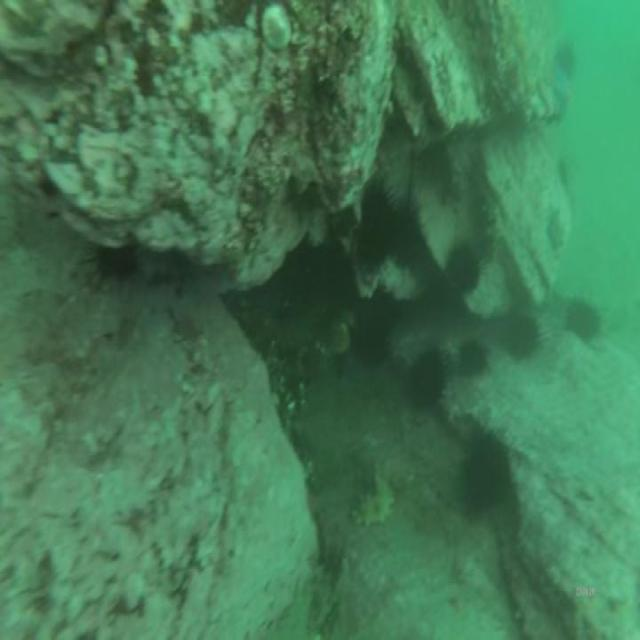echinus: (466, 444, 506, 514), (360, 297, 395, 362), (366, 190, 396, 259), (412, 351, 447, 406), (445, 239, 479, 289), (396, 200, 420, 260), (501, 318, 537, 357), (570, 298, 596, 339), (464, 344, 485, 373)
holothurian: (352, 469, 394, 528)
